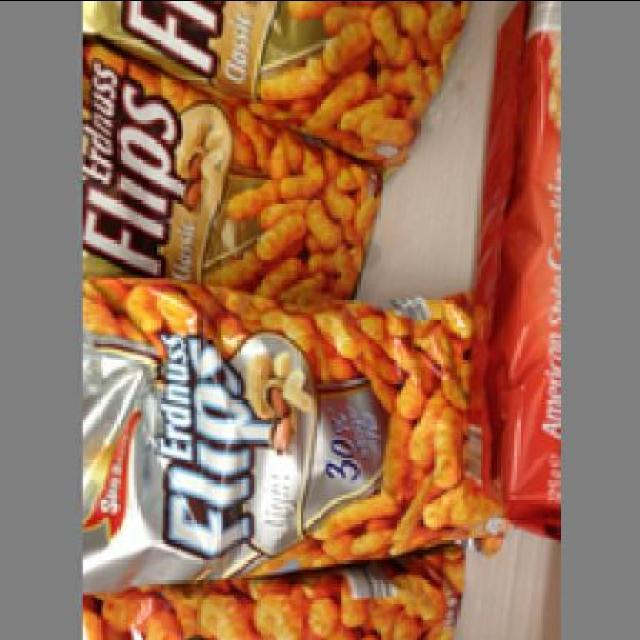Chips: (80, 283, 494, 597), (83, 86, 391, 294), (80, 3, 449, 140)
